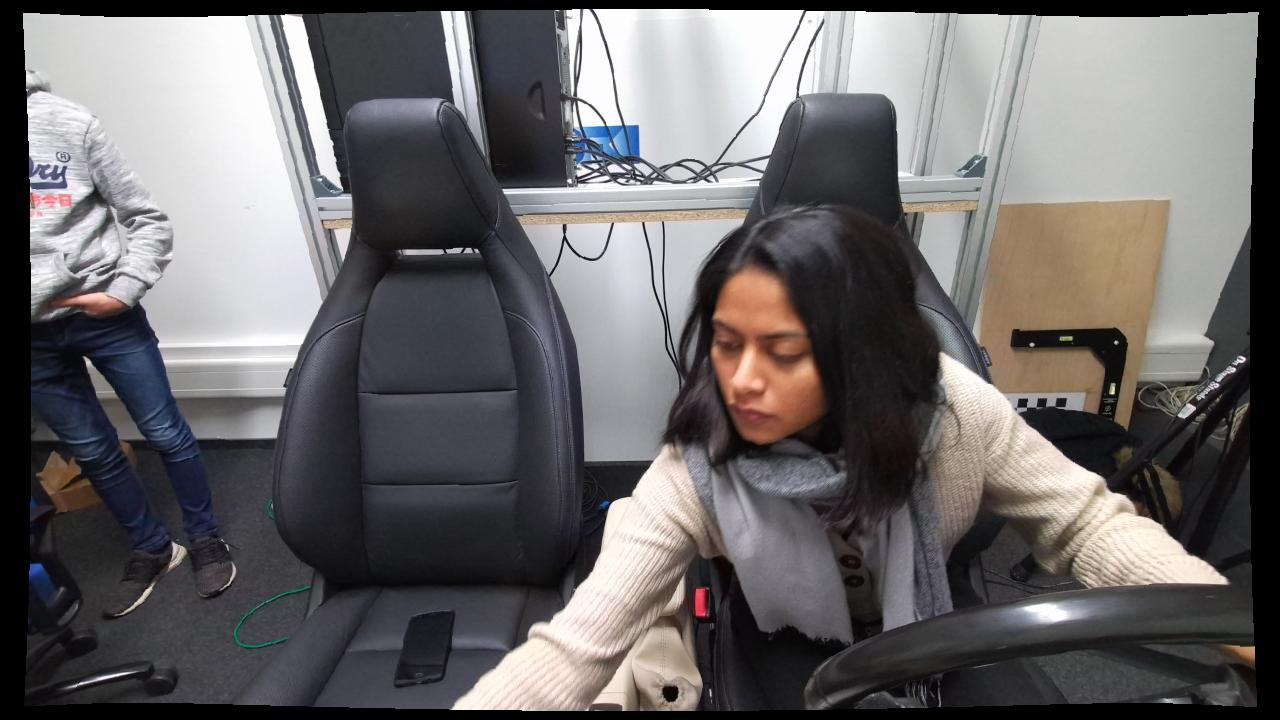Distracted: (448, 199, 1049, 709)
